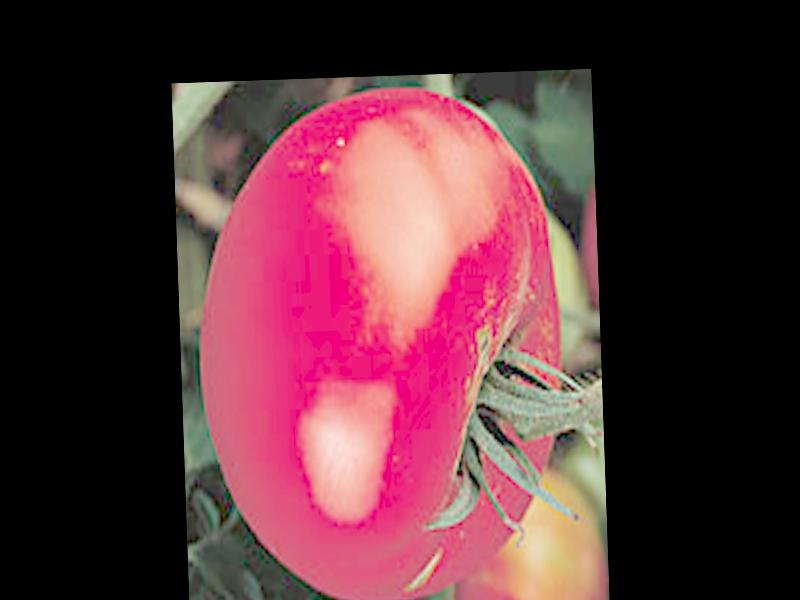Tomato: (190, 85, 568, 600)
